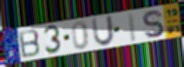0: (71, 20, 91, 51)
3: (42, 23, 64, 56)
B: (17, 28, 42, 60)
I: (127, 11, 138, 43)
S: (141, 9, 165, 40)
U: (90, 14, 116, 48)
